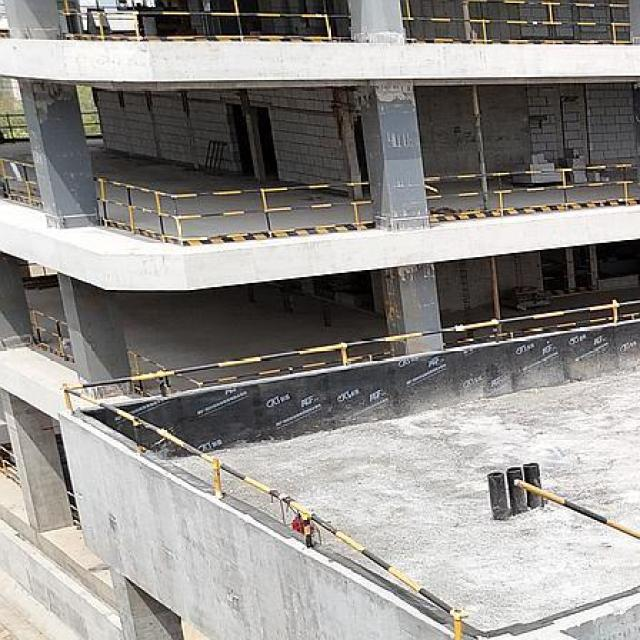edge_guardrail: (63, 297, 474, 629), (93, 177, 378, 242), (62, 0, 351, 40), (402, 0, 637, 46), (129, 345, 394, 385), (424, 161, 634, 205), (510, 479, 640, 540), (0, 154, 46, 209), (32, 306, 72, 354), (0, 112, 29, 138), (80, 110, 101, 127)
